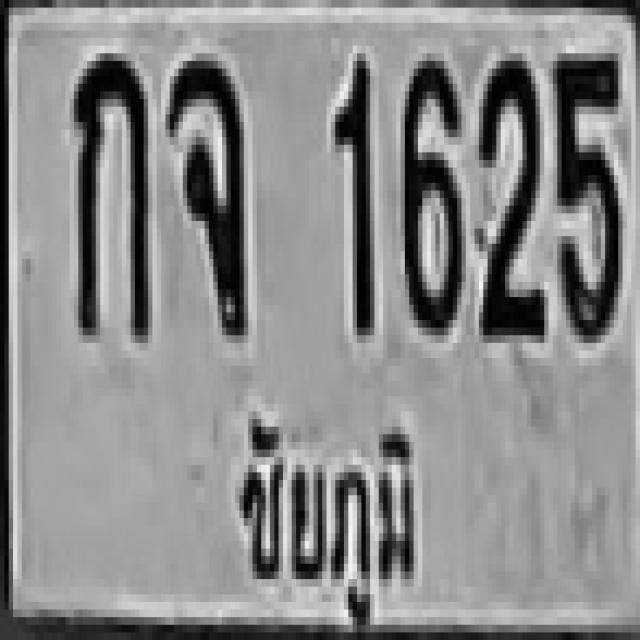1: (331, 57, 370, 332)
10GorGai: (70, 46, 148, 335)
17ChorChan: (165, 54, 244, 336)
2: (477, 54, 542, 336)
5: (549, 46, 618, 335)
6: (401, 53, 457, 328)
Chaiyaphum: (229, 398, 414, 634)
